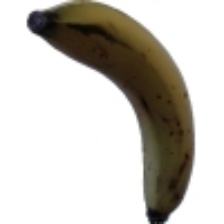banana: (19, 36, 179, 199)
